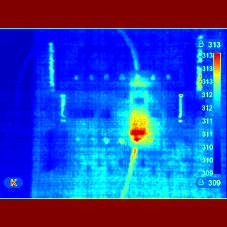High: (115, 105, 169, 149)
